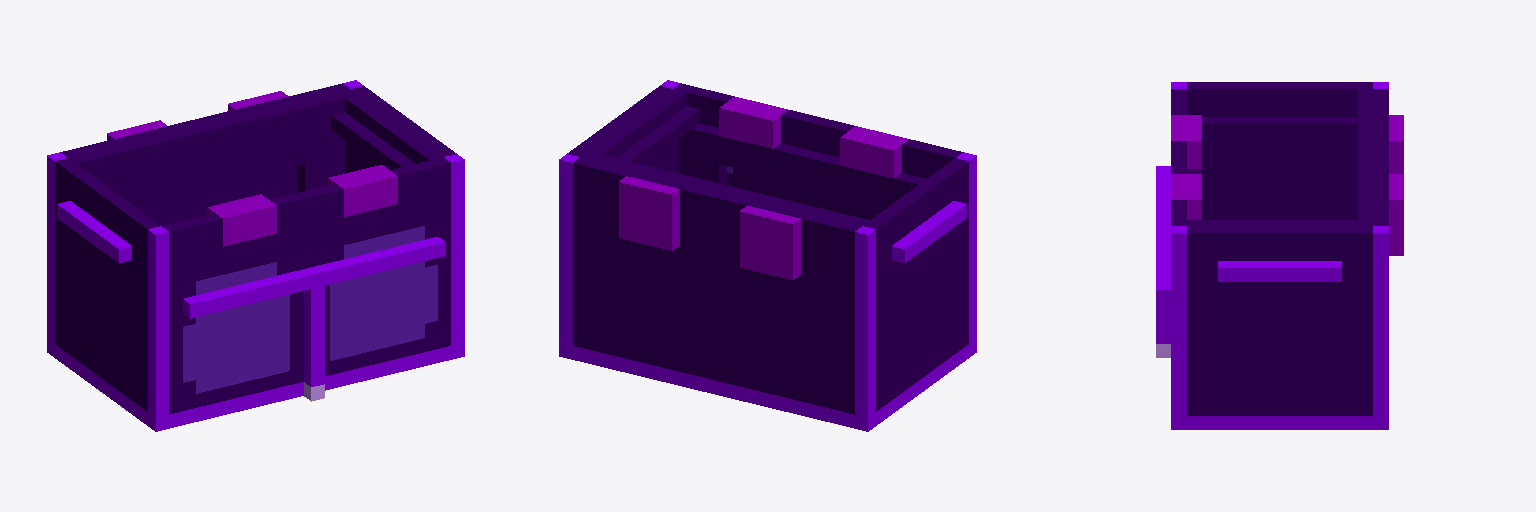
3 views of the same model, side by side, from view 1: azimuth 30°, elevation 25°; view 2: azimuth 150°, elevation 25°; view 3: azimuth 270°, elevation 25° (orthographic).
Parts seen in each view (by area): view 1: object 1; view 2: object 1; view 3: object 1.
Boxes of the visible parts, x1=… form: object 1: x1=47, y1=80, x2=464, y2=431; object 1: x1=559, y1=80, x2=976, y2=431; object 1: x1=1156, y1=82, x2=1403, y2=429.
Size of the model in its own units: 2.5 by 1.4 by 1.6.
Materials: 1 (1 with a texture image).